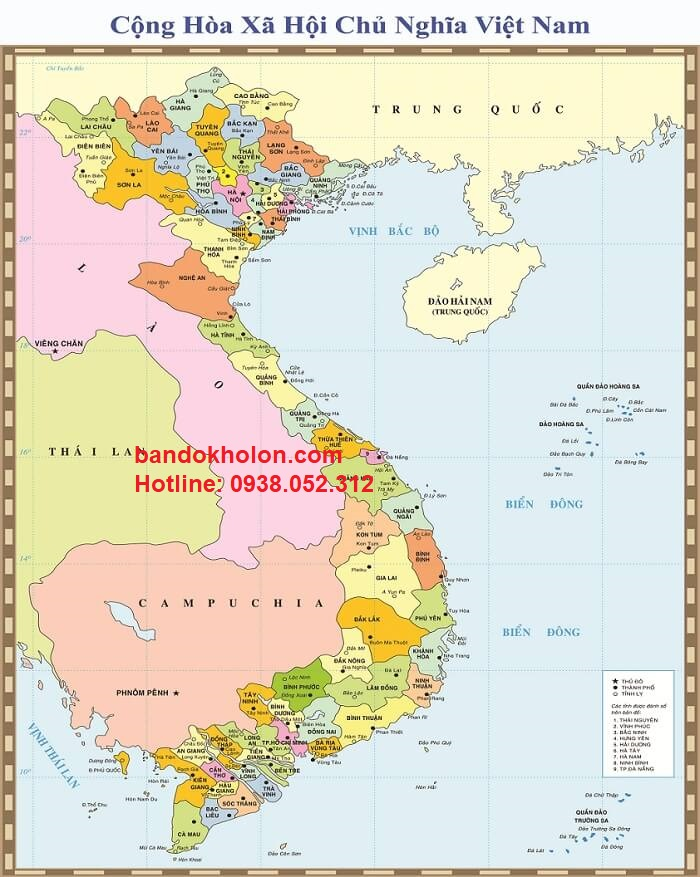Island: (535, 380, 675, 486), (527, 788, 649, 860)
